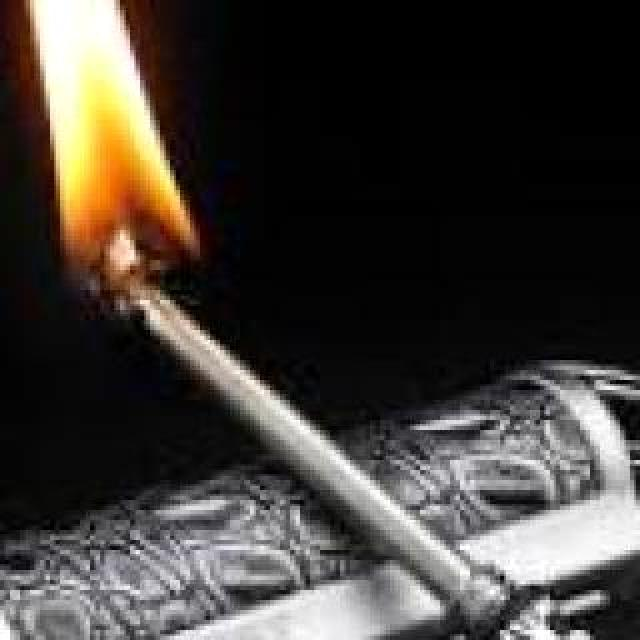fire: (4, 0, 194, 290)
